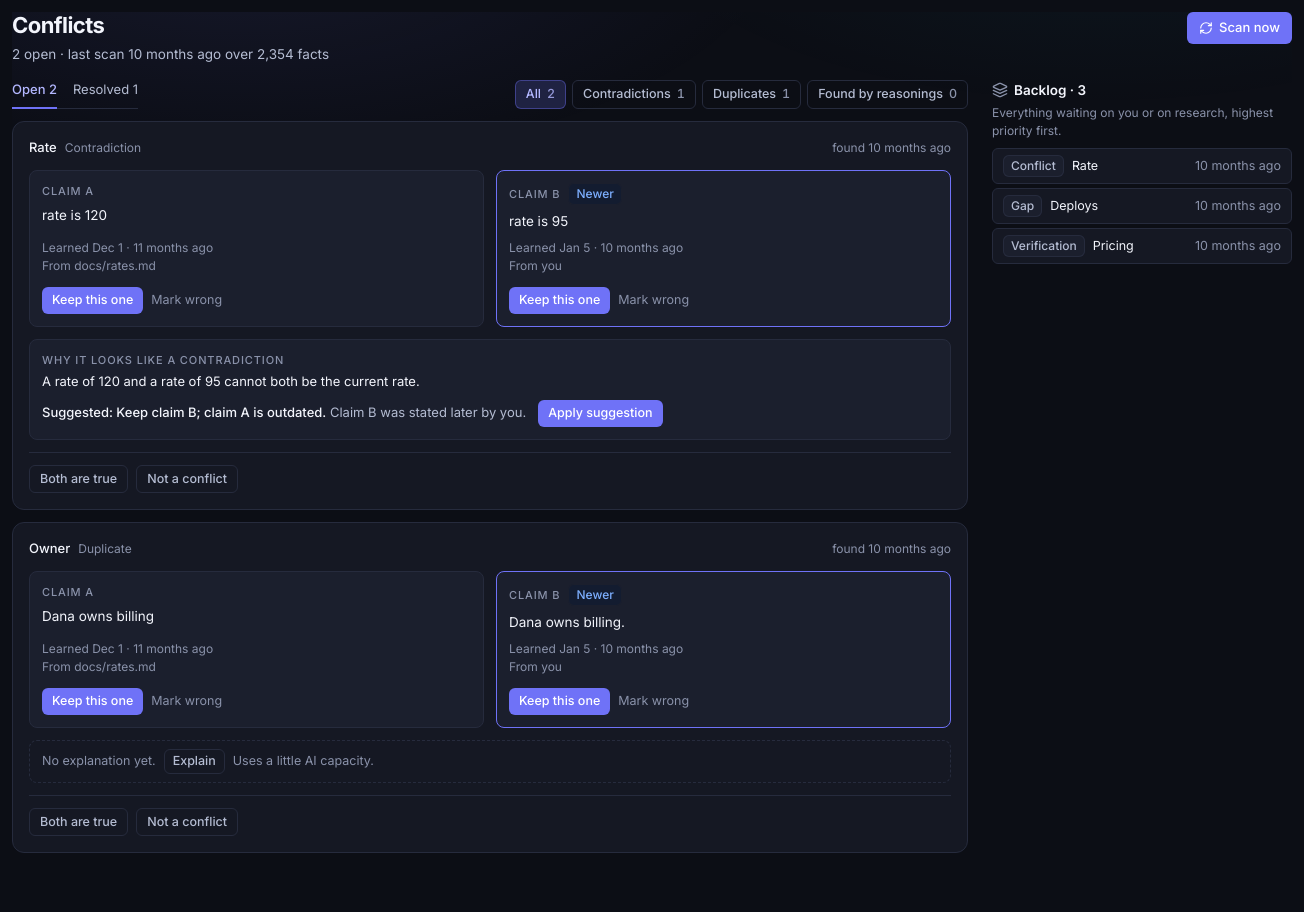
Conflicts (Refine PR 7) › shows what the decision needs: dates, sources, the newer claim, kinds and the last scan
Expected: the text "2 open · last scan 10 months ago over 2,354 facts" is shown, [12,44,329,64]
Expected: the 1st text "Newer" is shown, [568,183,622,205]
Click the button "Duplicates 1".
click(752, 94)  # box [702,80,801,109]
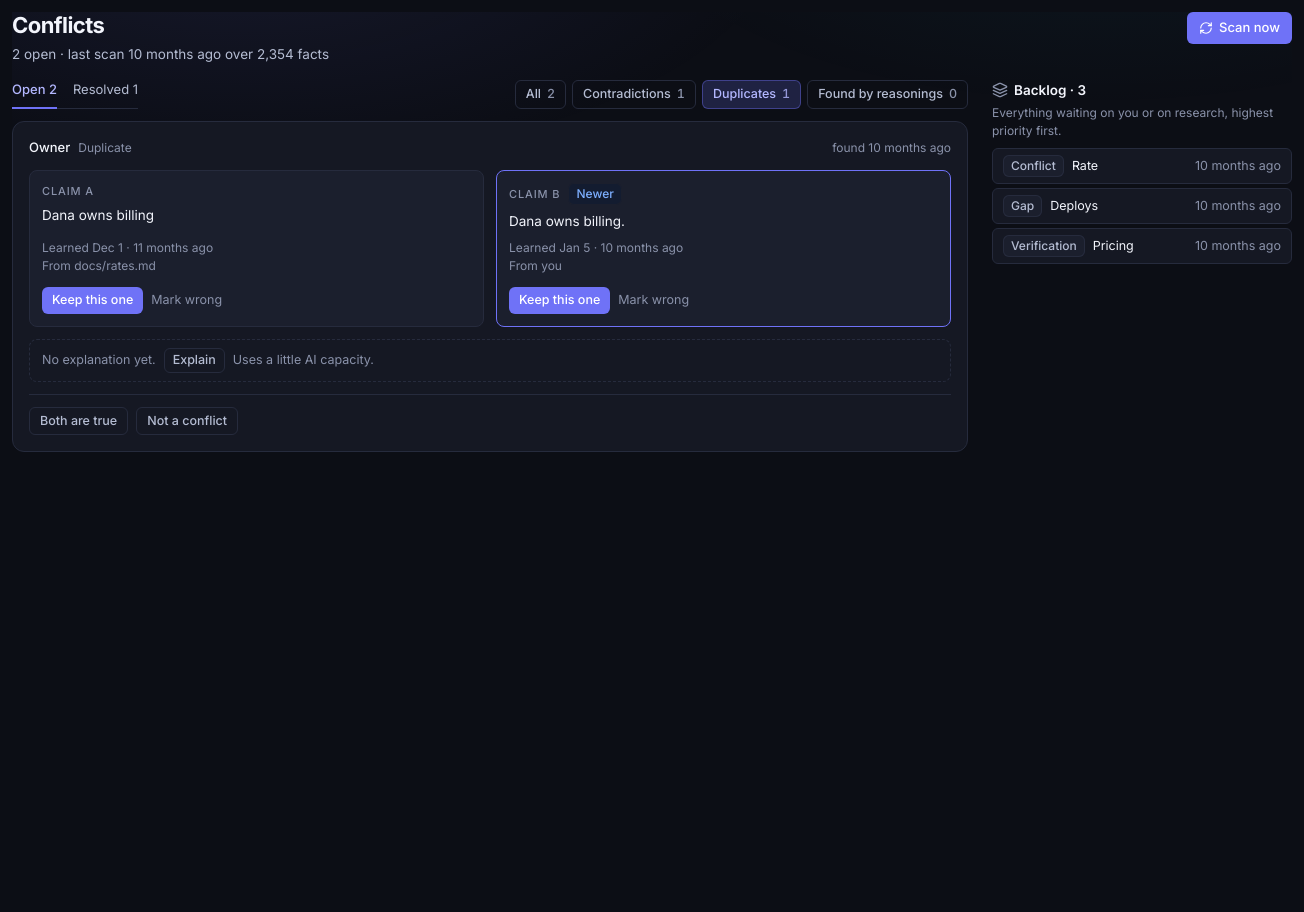
Expected: the text "Dana owns billing" is shown, [42,207,154,223]
Now the text "rate is 120" is gone
